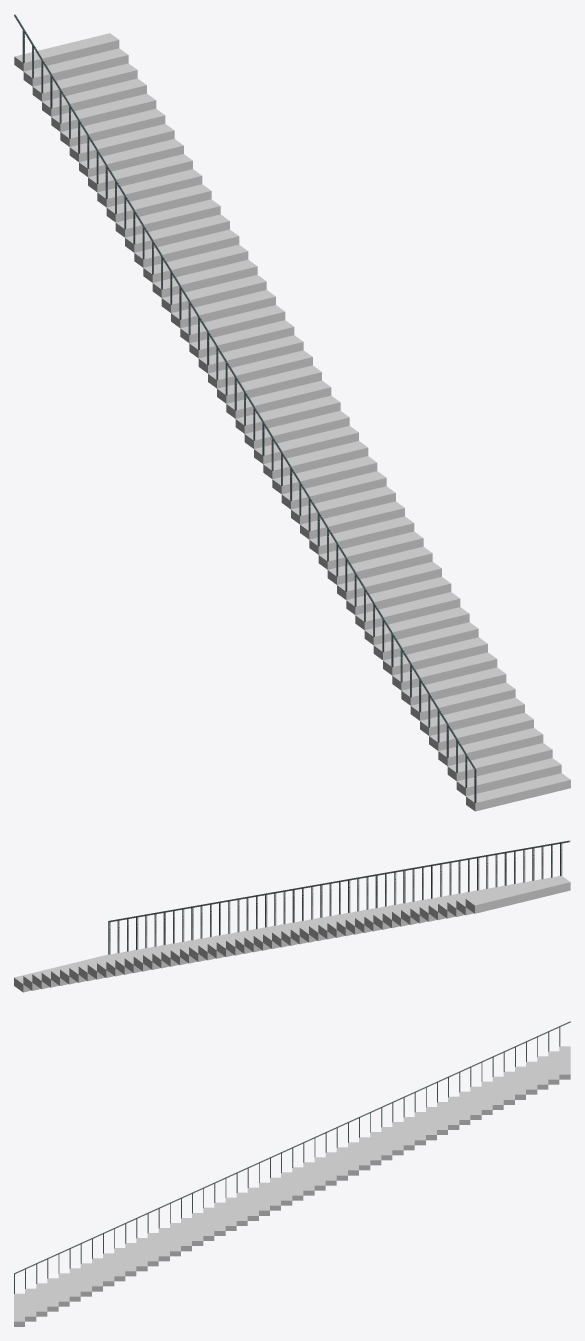
The model's file is longstairs.dae.
3 renders of one model, top to bottom at view 1: azimuth 30°, elevation 25°; view 2: azimuth 210°, elevation 25°; view 3: azimuth 270°, elevation 25°, orthographic. The views are drawn at different scales.
Parts seen in each view (by area): view 1: Component_1 (×50); view 2: Component_1 (×50); view 3: Component_1 (×40).
Part boxes in pixels (<box>): Component_1 (×50): <box>14,33,570,811</box>; Component_1 (×50): <box>14,876,570,992</box>; Component_1 (×40): <box>25,1046,570,1321</box>.
Size of the model in its own units: 72 by 600 by 330.
